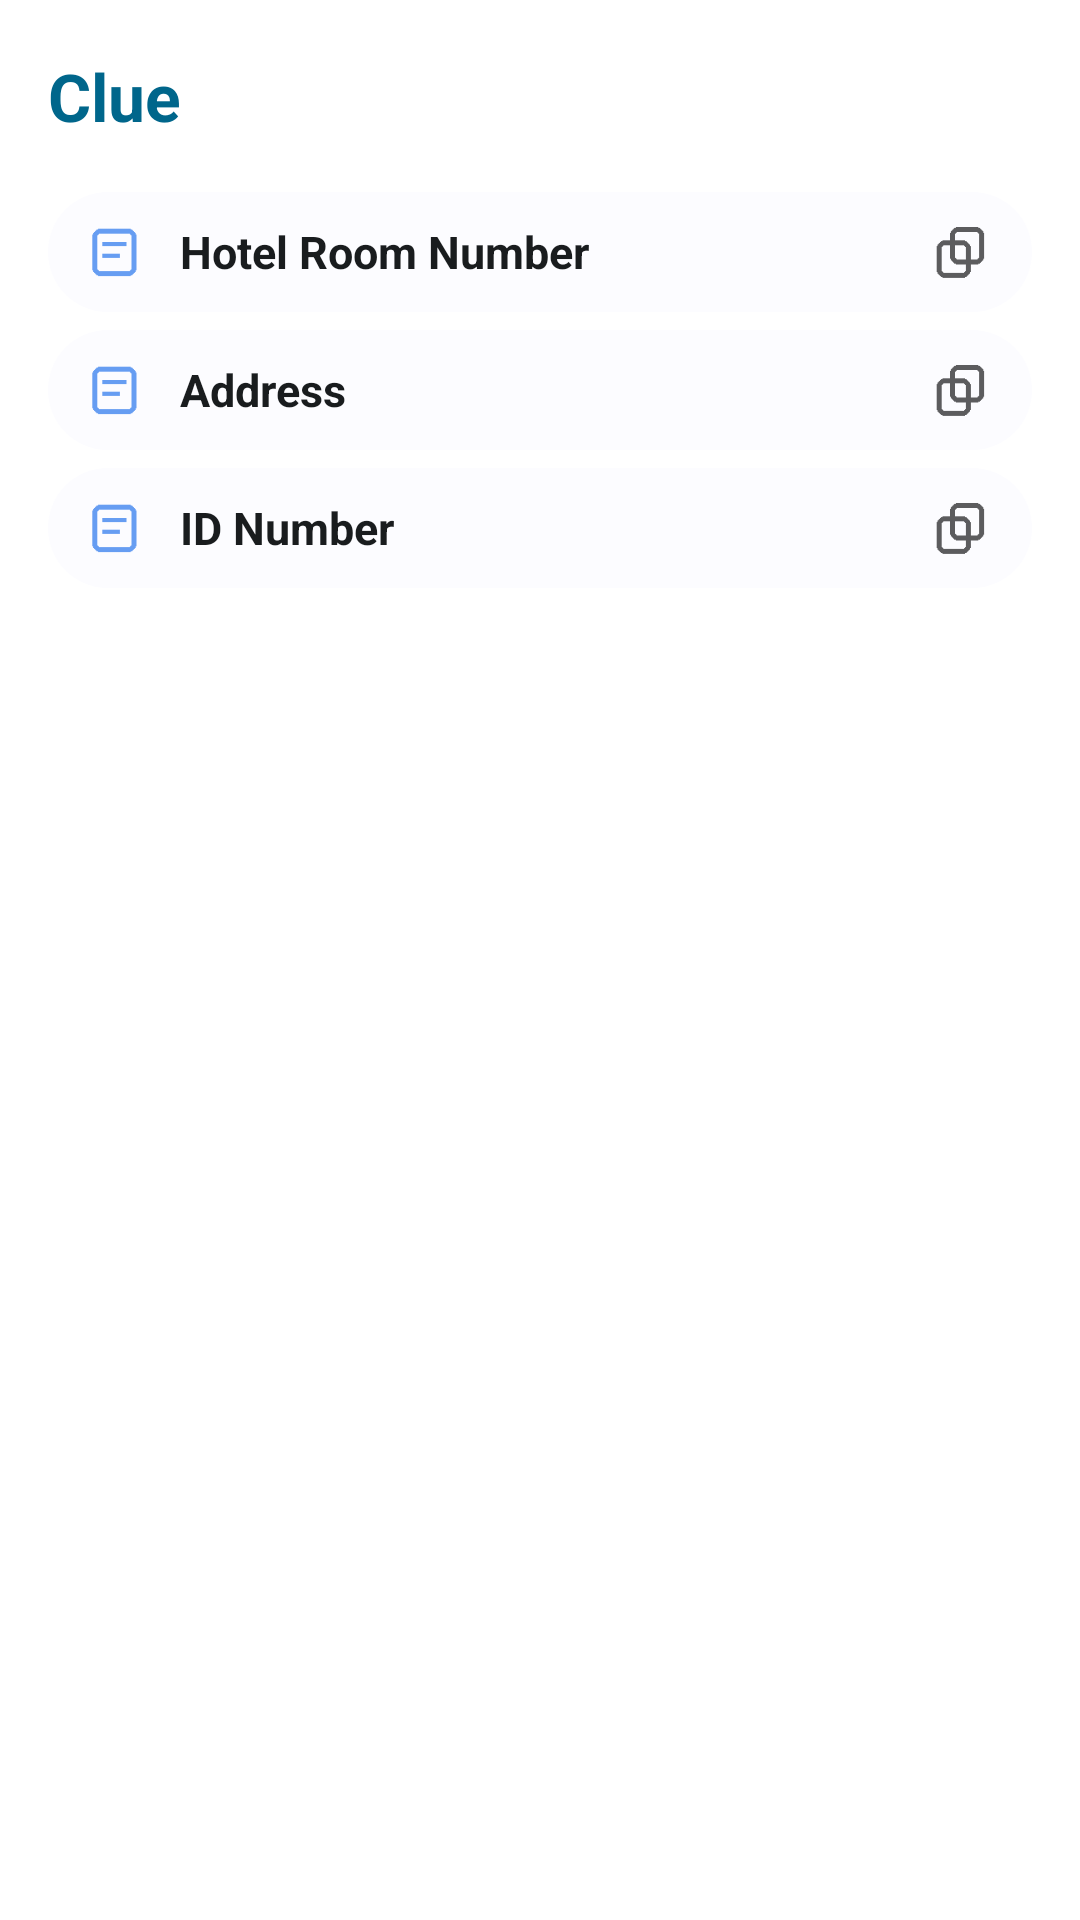

Locate icon controls on the screen. Image size 1080x1920, boxes as {"left": x1, "top": y1, "right": x2, "bottom": y2}.
Copy: {"left": 936, "top": 227, "right": 984, "bottom": 278}, {"left": 936, "top": 365, "right": 984, "bottom": 416}, {"left": 936, "top": 503, "right": 984, "bottom": 554}
widget note: {"left": 92, "top": 228, "right": 137, "bottom": 276}, {"left": 92, "top": 366, "right": 137, "bottom": 414}, {"left": 92, "top": 504, "right": 137, "bottom": 552}
